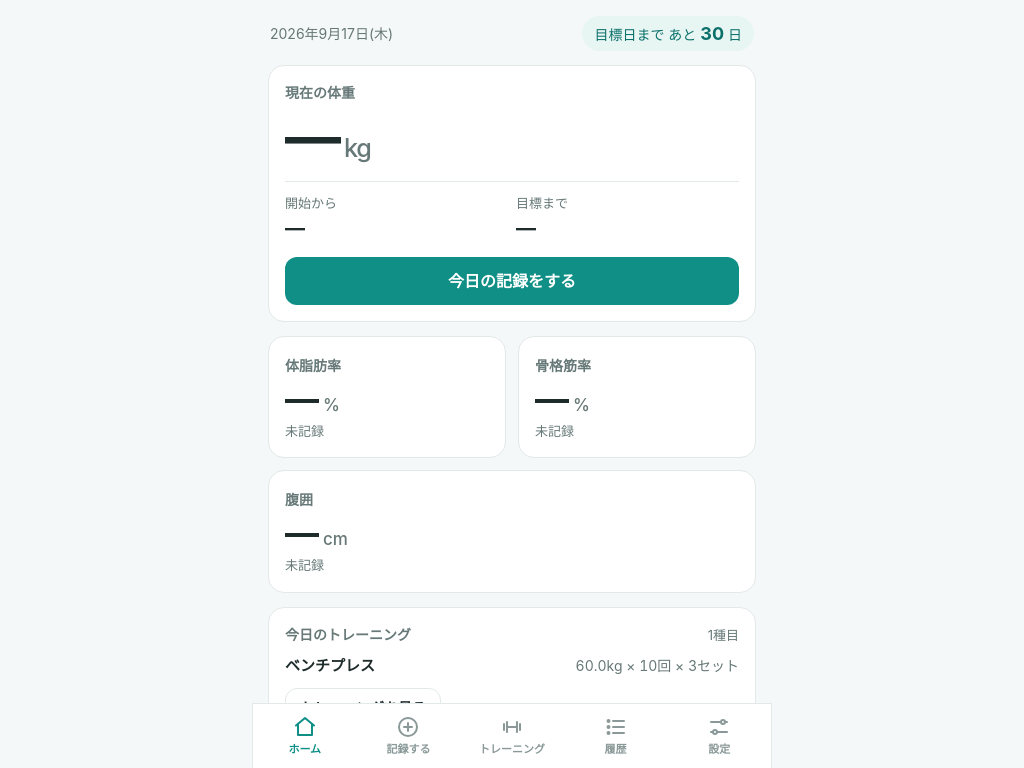
Test: App › トレーニングの削除は確認してから、元に戻せる
This screenshot has width=1024, height=768.
Step 1. Click the button "トレーニング" → (512, 736), box [460,704,564,767]
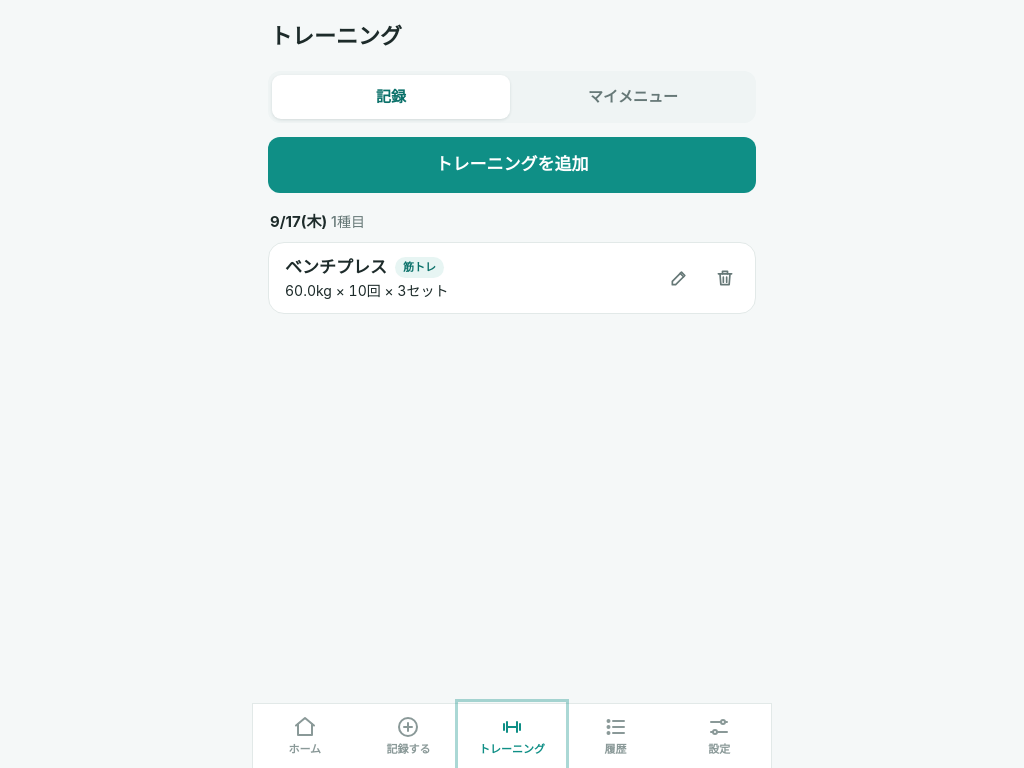
Step 2. Click the button named "ベンチプレスを削除" → (725, 278), box [703,256,747,300]
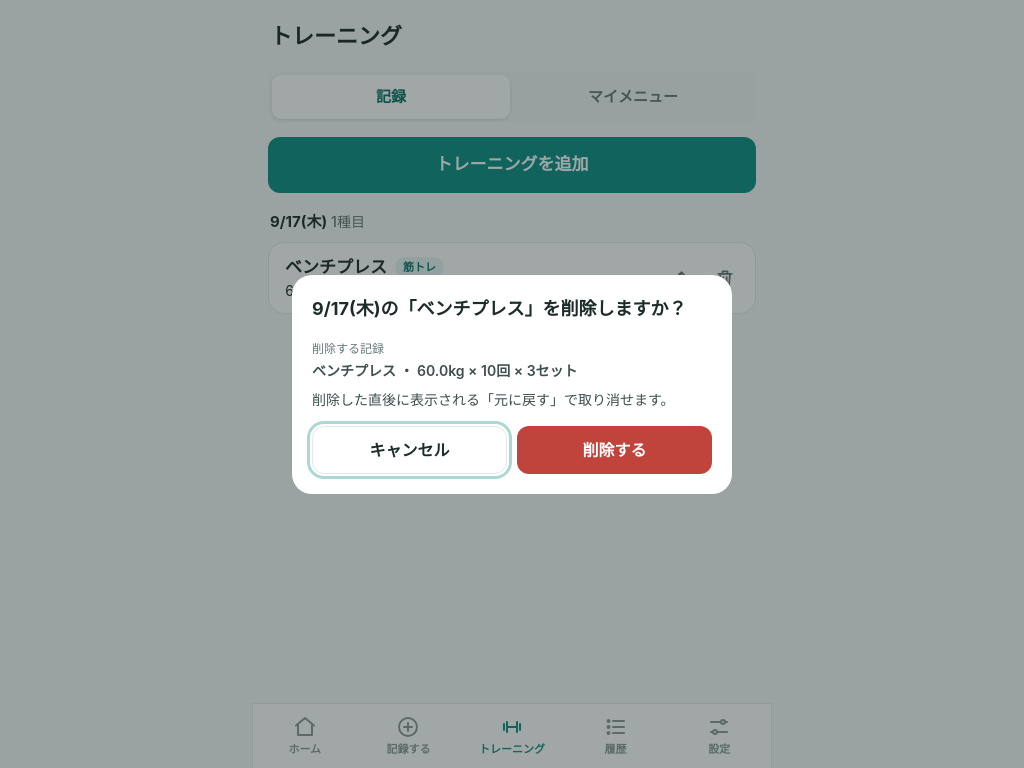
Expected: the text "ベンチプレス ・ 60.0kg × 10回 × 3セット" is shown, [312,362,578,378]
Step 3. Click the button "削除する" → (614, 450), box [517,426,712,474]
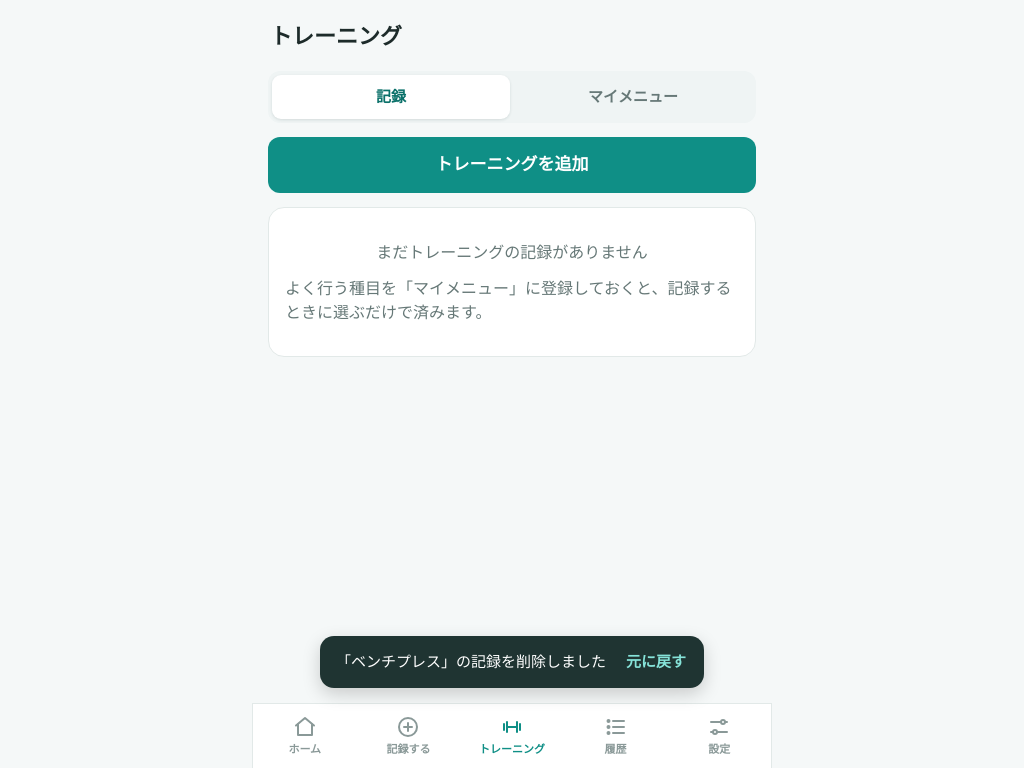
Expected: the text "「ベンチプレス」の記録を削除しました" is shown, [336,651,606,673]
Step 4. Click the button "元に戻す" → (656, 662), box [614,642,698,682]
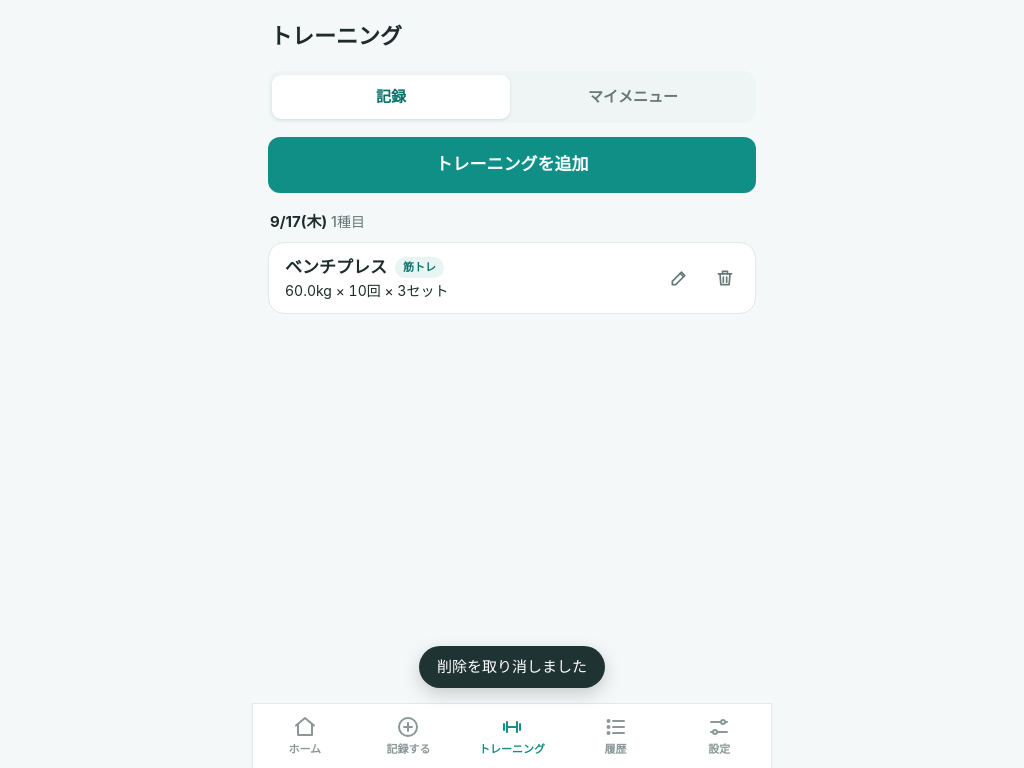
Expected: the text "削除を取り消しました" is shown, [437,656,587,676]
